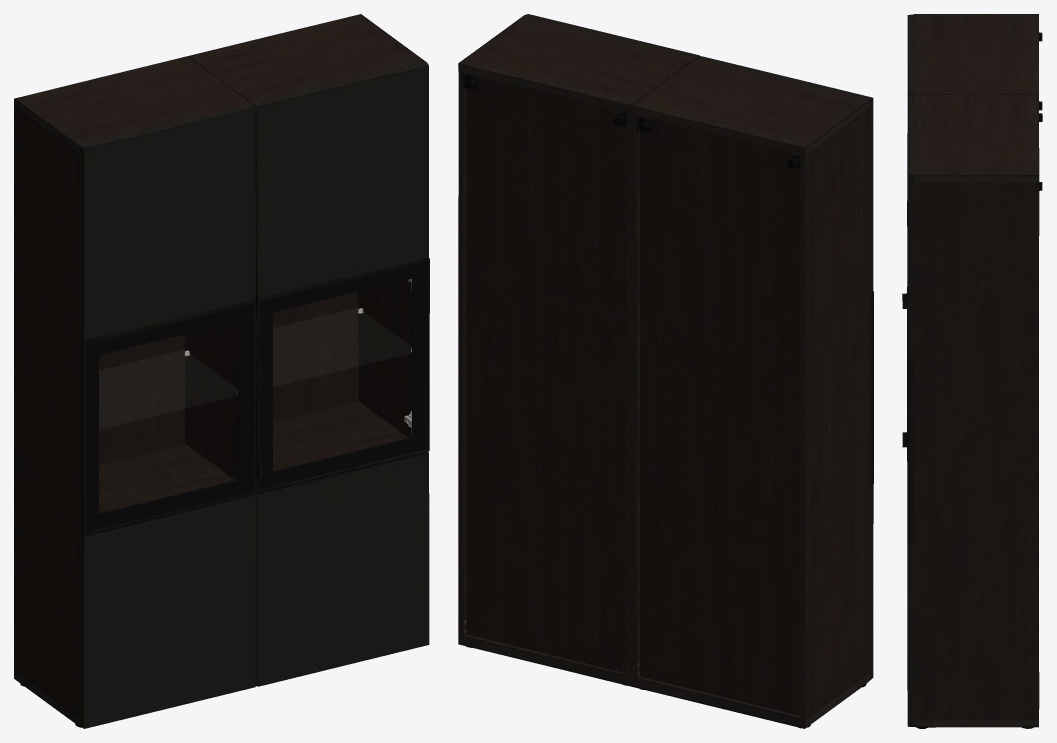
The picture shows the model from 3 angles, left to right: view 1: azimuth 30°, elevation 25°; view 2: azimuth 150°, elevation 25°; view 3: azimuth 270°, elevation 25°; orthographic projection. The views are drawn at different scales.
Parts seen in each view (by area): view 1: ProcessedMeshNode; view 2: ProcessedMeshNode; view 3: ProcessedMeshNode.
Part boxes in pixels (bbox=[...]): ProcessedMeshNode: bbox=[14, 14, 429, 728]; ProcessedMeshNode: bbox=[458, 14, 873, 728]; ProcessedMeshNode: bbox=[902, 14, 1042, 728].
Bounding box in the file's own units: 1.2 × 1.93 × 0.4419.
Materials: 2 (2 with a texture image).
